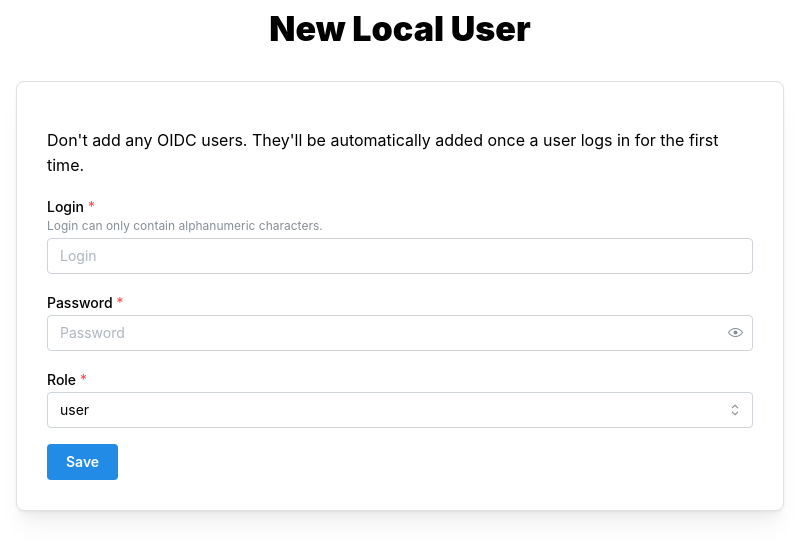
NewUser › blocks submit for an invalid (non-alphanumeric) login
In the field with placeholder "Login": (400, 256) x1=47 y1=238 x2=753 y2=274, type "bad login!"
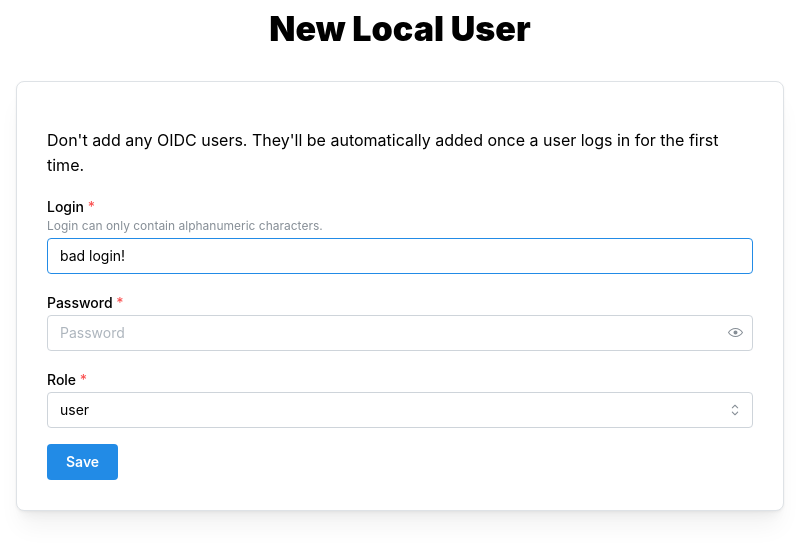
In the password field with placeholder "Password": (400, 333) x1=48 y1=316 x2=752 y2=350, type "secret1!"
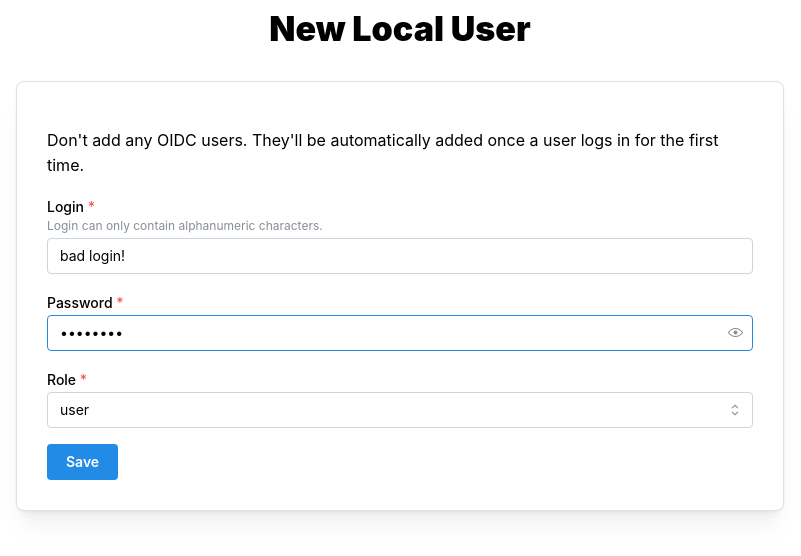
Click the button "Save": (83, 462) x1=47 y1=444 x2=118 y2=480
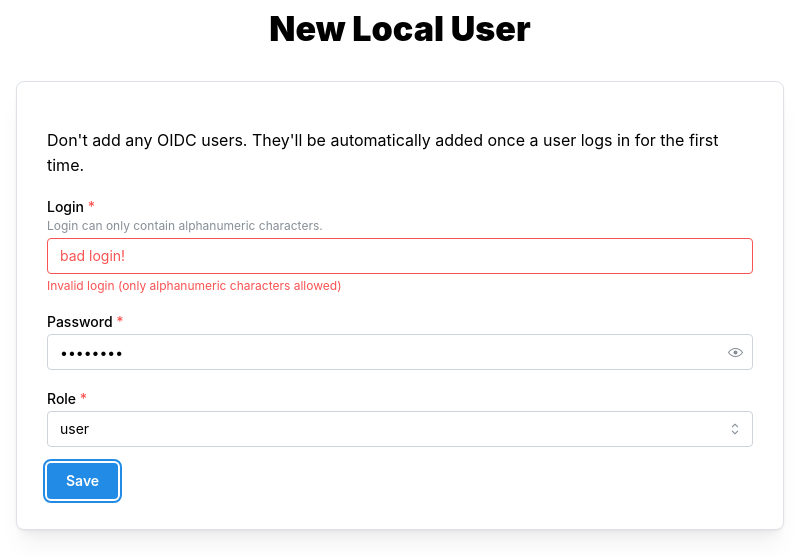
Check: the text "Invalid login (only alphanumeric characters allowed)" is shown, box x1=47 y1=278 x2=342 y2=293
